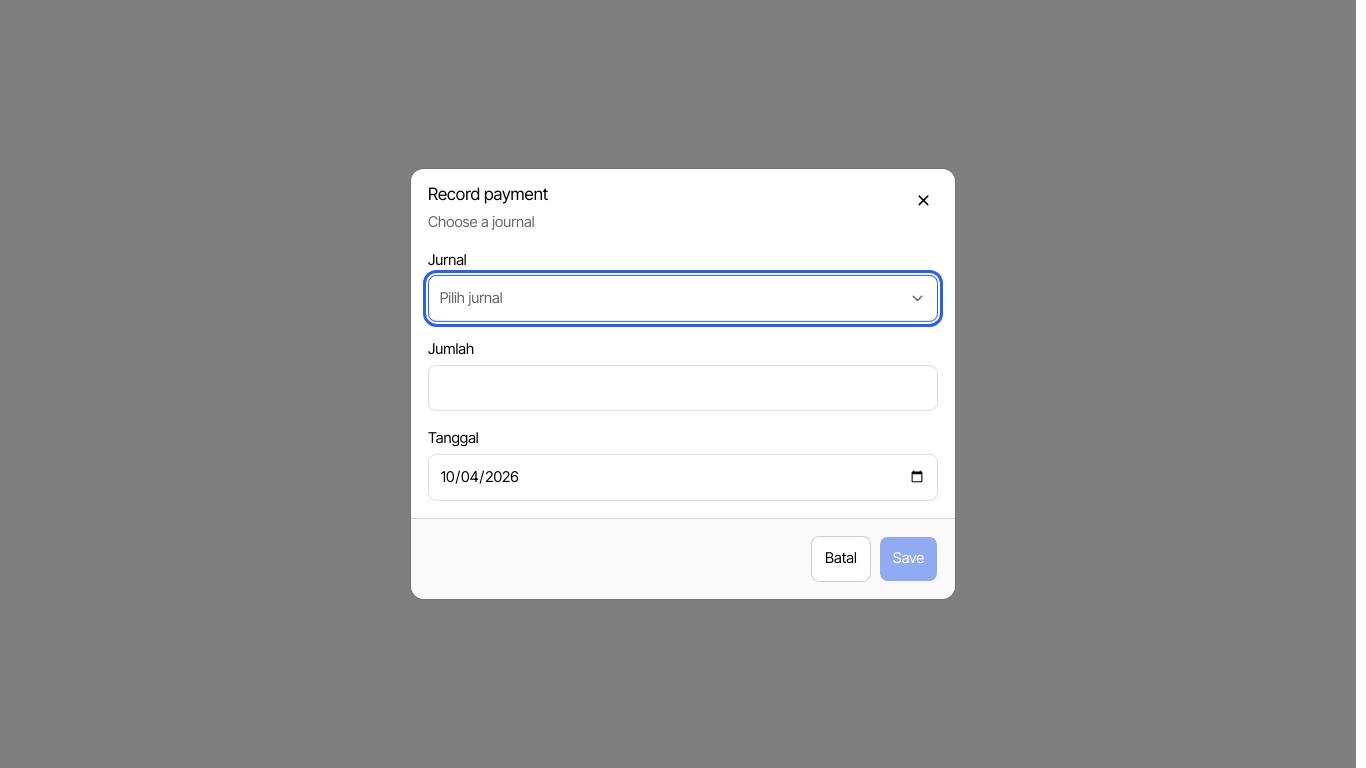
Scenario: PaymentDialog › shows the amount field and requires it when enabled
Click the dropdown labelled "jurnal" at (471, 298), box left=428, top=275, right=938, bottom=322
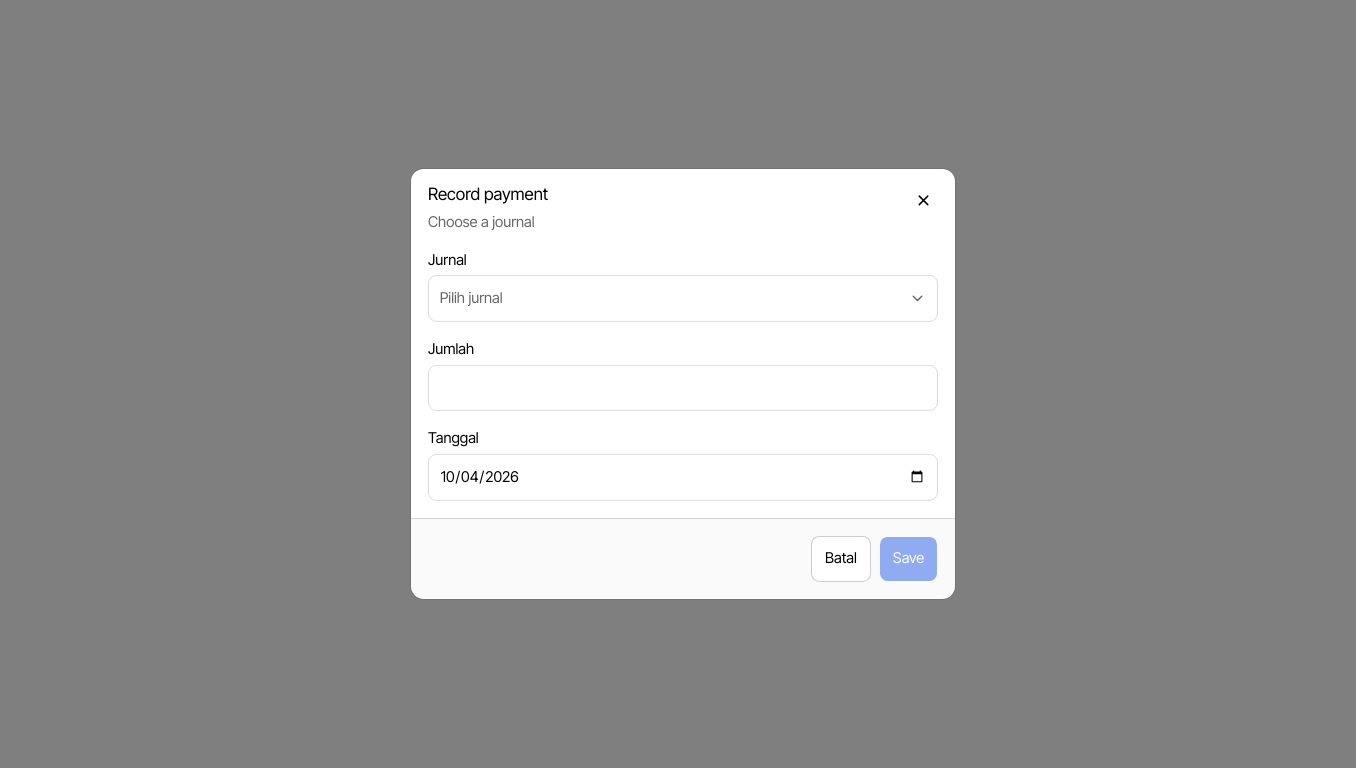
Expected: the option "Cash — cash" is shown, left=434, top=340, right=520, bottom=358
Press Arrowdown
Press Enter
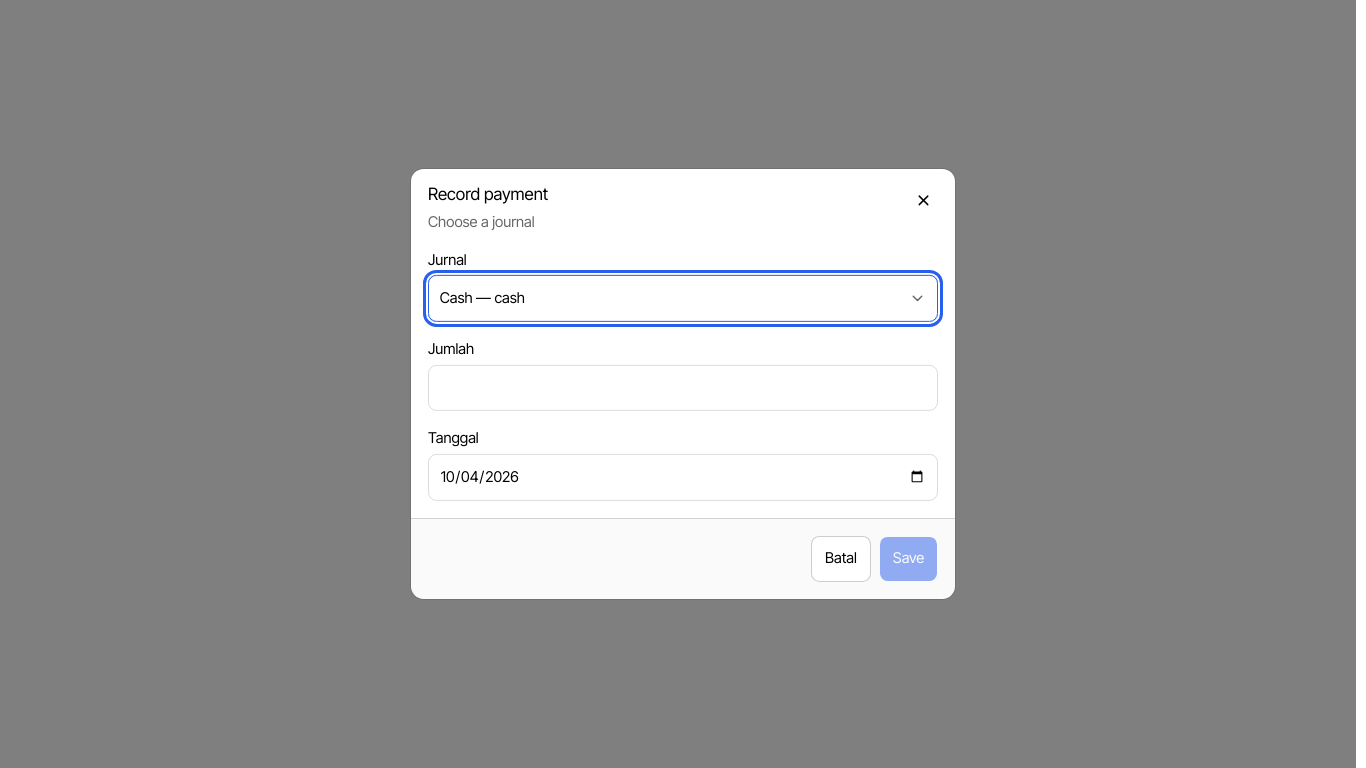
Expected: the button "Save" is disabled, left=879, top=535, right=938, bottom=582
Type "150000" into the number field at (683, 388), box left=428, top=364, right=938, bottom=411
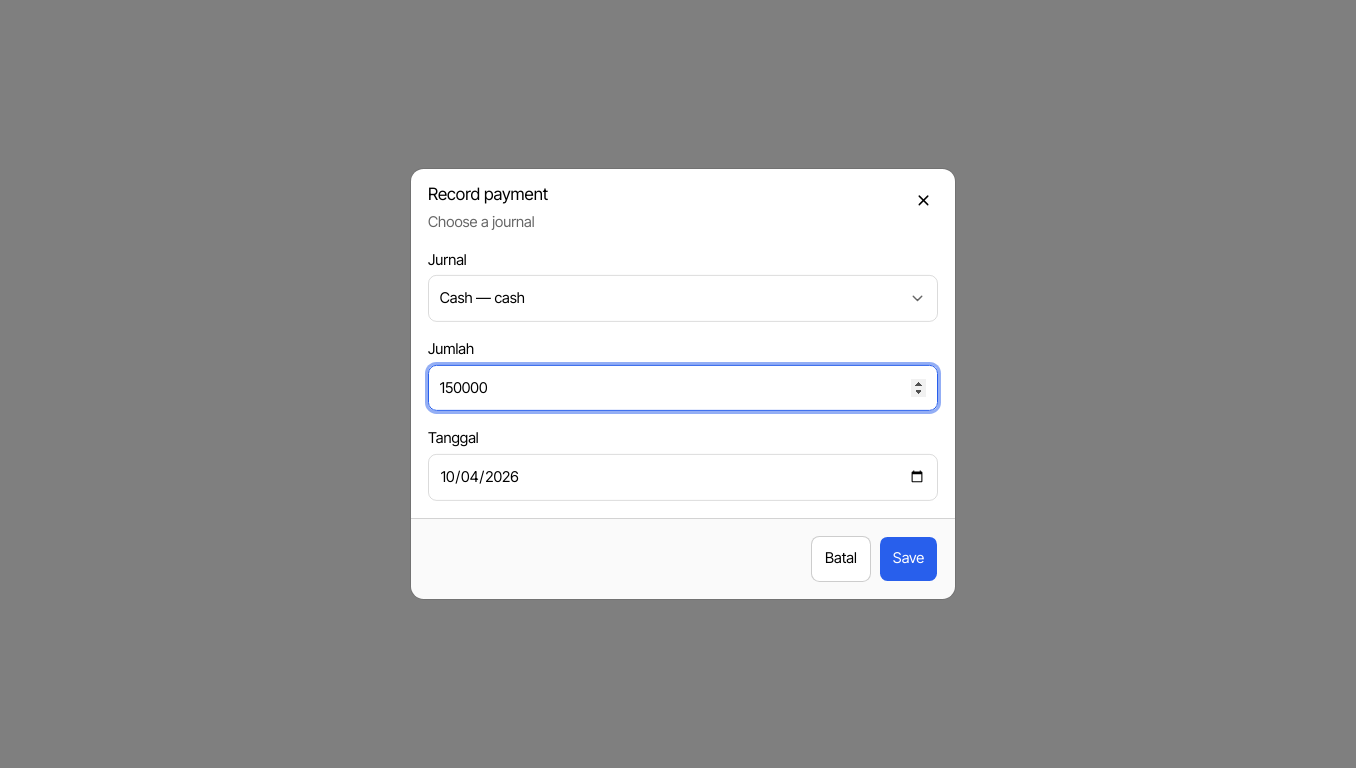
Expected: the button "Save" is enabled, left=879, top=535, right=938, bottom=582
